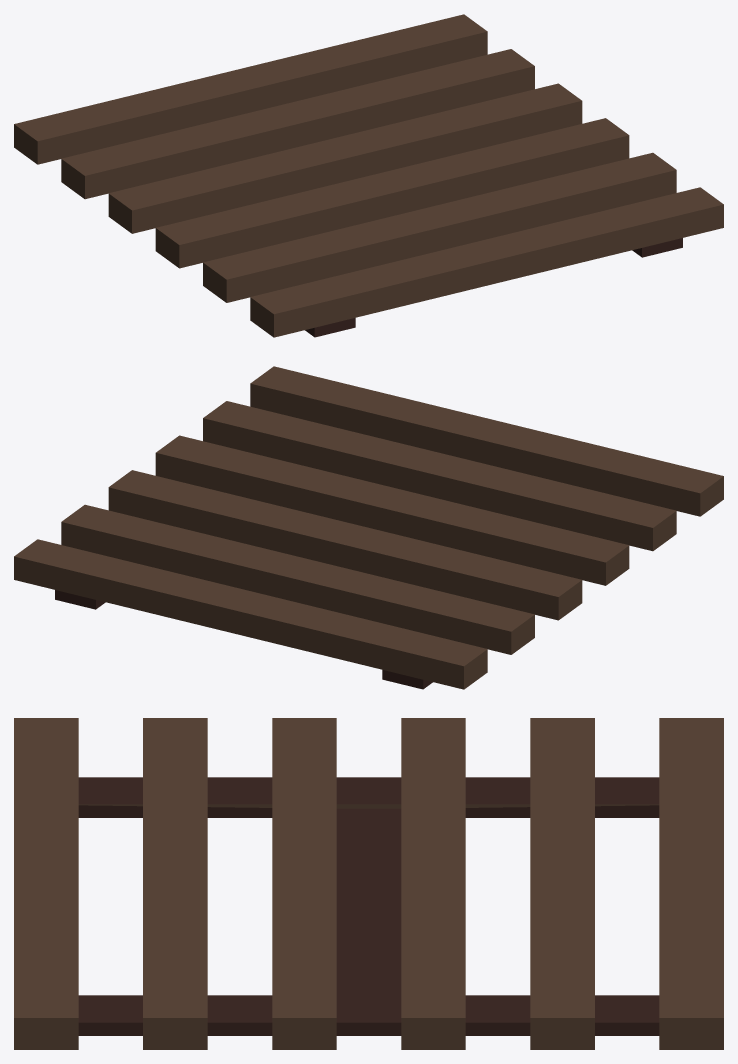
File: P_WOODEN STAKES.fbx
The picture shows the model from 3 angles, top to bottom: view 1: azimuth 30°, elevation 25°; view 2: azimuth 150°, elevation 25°; view 3: azimuth 270°, elevation 25°; orthographic projection. The views are drawn at different scales.
Parts seen in each view (by area): view 1: Wooden_Stakes; view 2: Wooden_Stakes; view 3: Wooden_Stakes.
Boxes of the visible parts, left/top/right/bottom form: Wooden_Stakes: left=14, top=14, right=723, bottom=337; Wooden_Stakes: left=14, top=366, right=723, bottom=689; Wooden_Stakes: left=14, top=718, right=723, bottom=1049.
Size of the model in its own units: 124 by 8.72 by 124.
